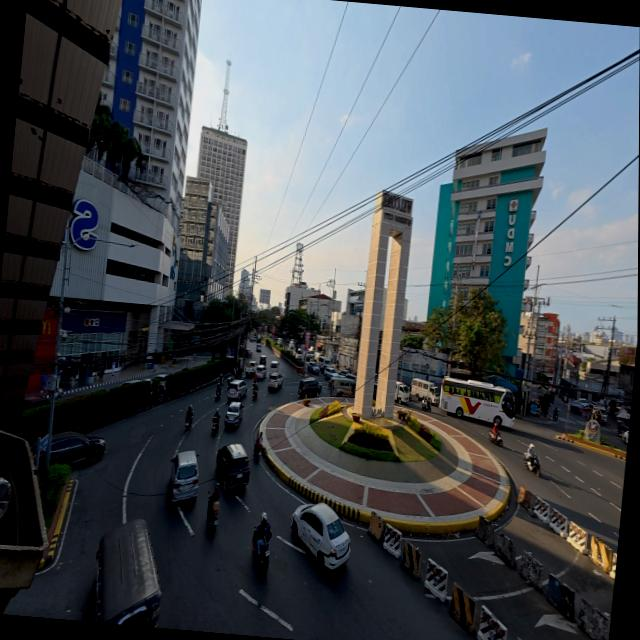Jeepneys: (94, 519, 160, 627), (327, 375, 354, 397)
bus: (439, 378, 513, 427)
car: (291, 503, 349, 570), (50, 432, 104, 465), (216, 444, 249, 489), (169, 451, 198, 502), (297, 378, 321, 398), (224, 402, 243, 427), (226, 380, 246, 400), (23, 395, 49, 409), (266, 372, 282, 391), (152, 374, 166, 393), (616, 419, 629, 436), (244, 360, 255, 378), (306, 361, 318, 375), (323, 367, 336, 379), (119, 379, 141, 386), (255, 365, 265, 380), (338, 369, 354, 378), (318, 363, 330, 374), (339, 373, 355, 381), (268, 361, 277, 373), (258, 355, 266, 366), (621, 431, 628, 443), (294, 349, 301, 359), (244, 348, 251, 358), (304, 352, 311, 362), (255, 342, 262, 352), (288, 340, 293, 349), (275, 338, 281, 345), (255, 337, 261, 344)
motorcycle: (251, 526, 268, 571), (524, 454, 540, 476), (206, 501, 217, 532), (488, 430, 502, 447), (253, 445, 261, 462), (421, 397, 430, 412), (211, 416, 218, 435), (185, 416, 191, 431), (214, 390, 220, 401), (252, 388, 257, 400), (552, 411, 557, 422)
vans: (411, 379, 439, 404), (394, 382, 410, 403), (317, 356, 329, 365)
